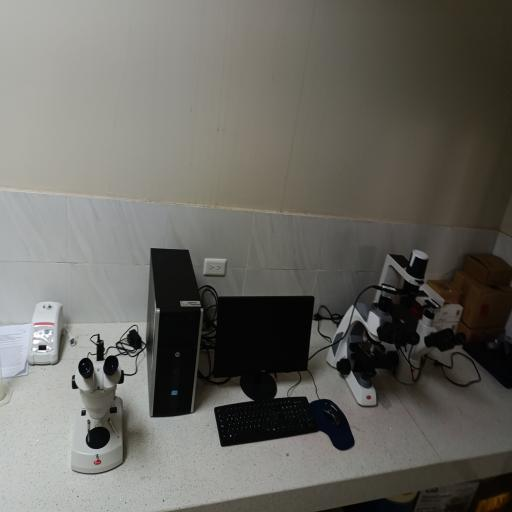Microscopio_estereo: (60, 329, 145, 486)
